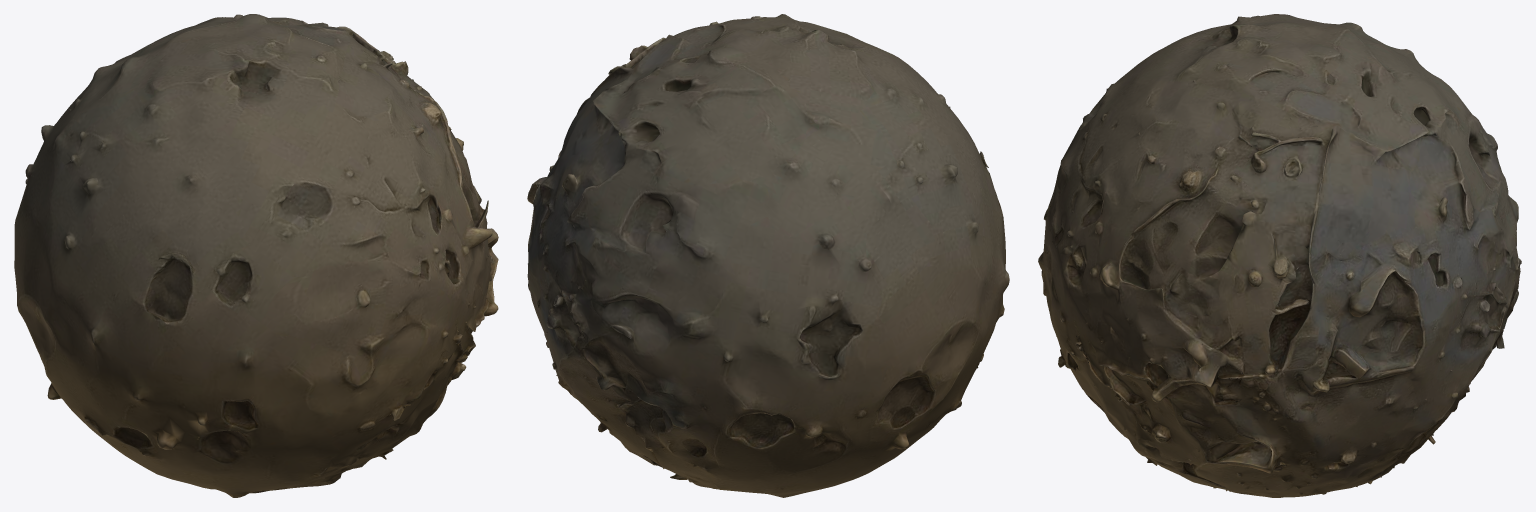
File: siege-cannonball.glb
3 renders of one model, left to right at view 1: azimuth 30°, elevation 25°; view 2: azimuth 150°, elevation 25°; view 3: azimuth 270°, elevation 25°, orthographic.
Visible parts, largest first — view 1: tripo_node_3989abb4-d58e-4ad5-8661-2981c90f1bfa; view 2: tripo_node_3989abb4-d58e-4ad5-8661-2981c90f1bfa; view 3: tripo_node_3989abb4-d58e-4ad5-8661-2981c90f1bfa.
Part boxes in pixels (x1,y1,x2,y2): tripo_node_3989abb4-d58e-4ad5-8661-2981c90f1bfa: [14, 14, 498, 497]; tripo_node_3989abb4-d58e-4ad5-8661-2981c90f1bfa: [527, 14, 1009, 497]; tripo_node_3989abb4-d58e-4ad5-8661-2981c90f1bfa: [1038, 14, 1521, 497].
Size of the model in its own units: 1 by 0.9946 by 0.994.
Materials: 1 (1 with a texture image).
